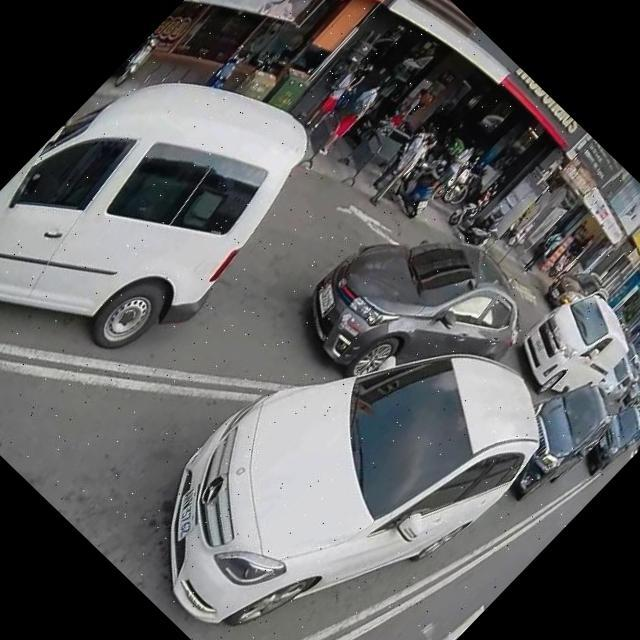person: (309, 70, 396, 159), (364, 128, 442, 208), (298, 58, 370, 132), (423, 139, 484, 201), (518, 225, 566, 274), (390, 84, 434, 130)
